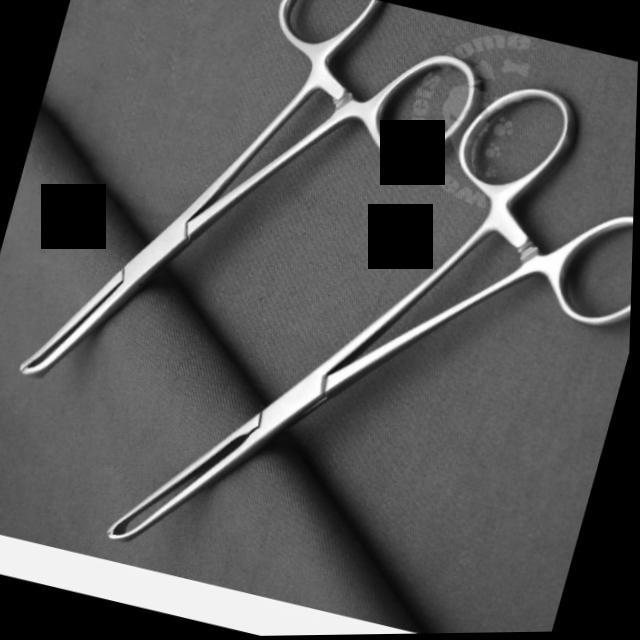Allis Forceps: (97, 9, 640, 638), (4, 0, 496, 470)
